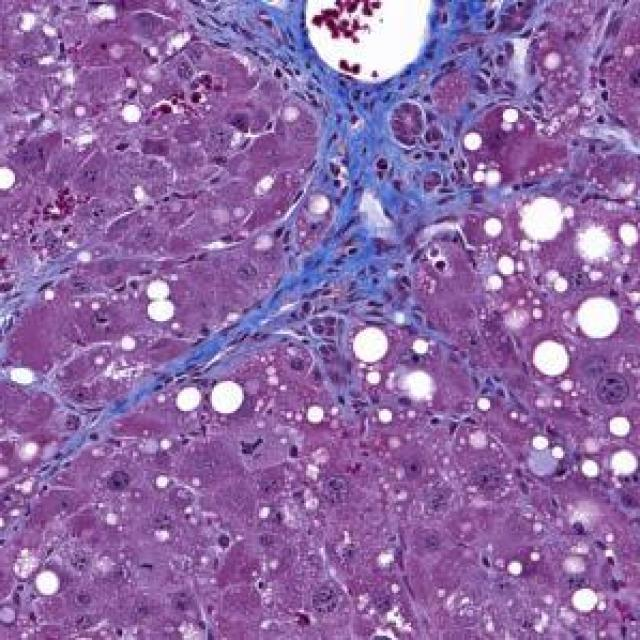fibrosis: (78, 0, 529, 447)
